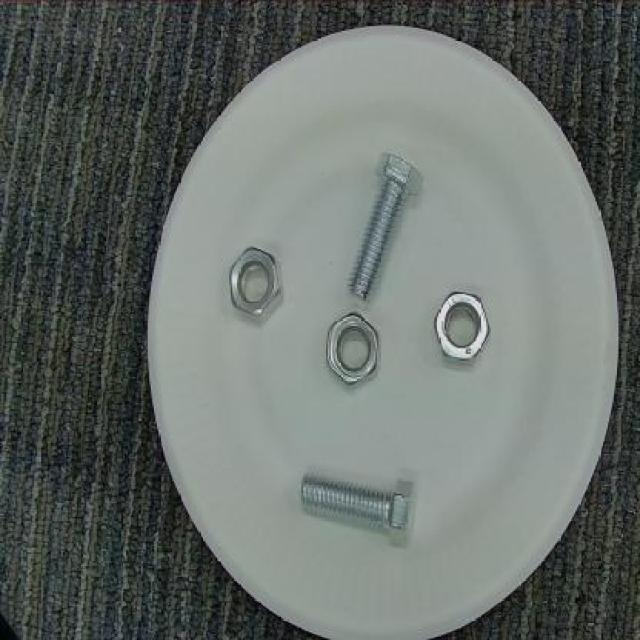Bolt: (347, 150, 423, 302), (296, 472, 414, 548)
Nut: (431, 289, 496, 368), (225, 245, 285, 326), (324, 311, 382, 389)
